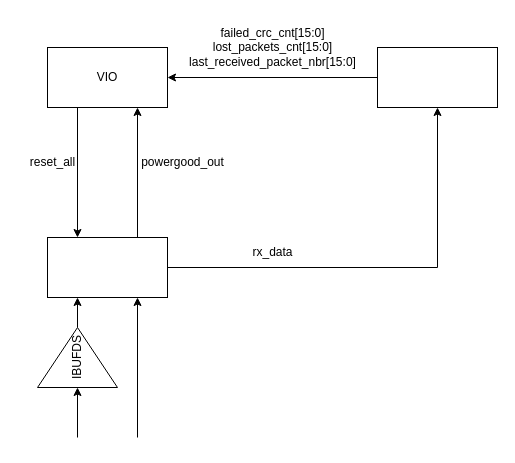
Image size: 515x463. Some labels were removed from this diagram. Each missing label, with the centre of its shape:
"GTH" belongs at point 107,267.
"packet checker" belongs at point 437,77.
